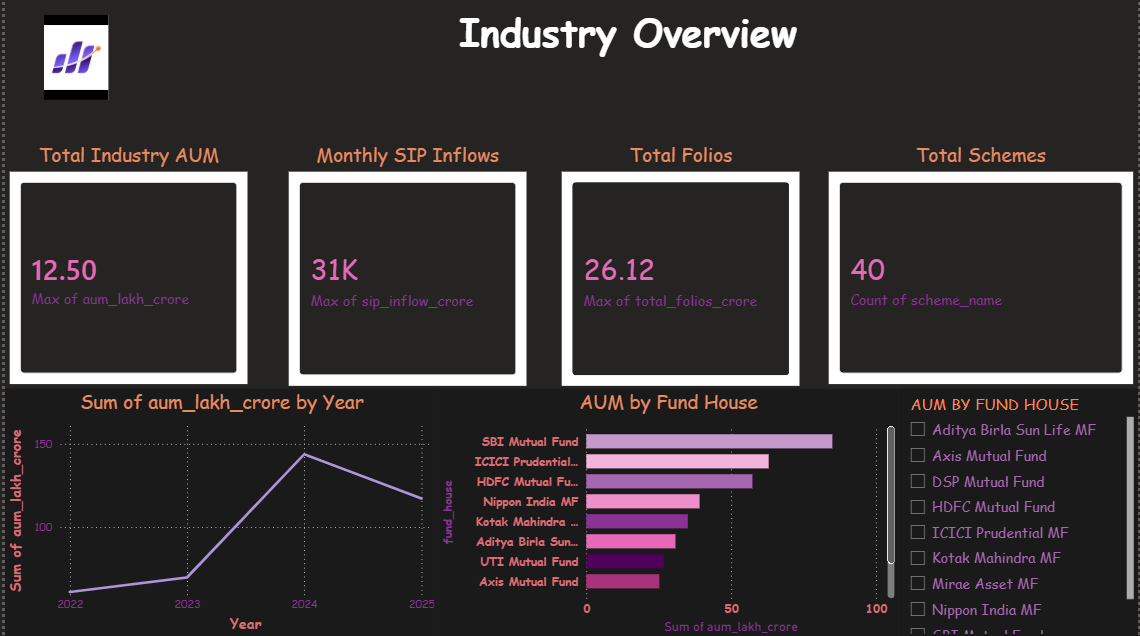

Layout of this report page (visuals, bound fields, positions):
{"tool":"powerbi","page":{"name":"Industry Overview","canvas":[1280,720],"ordinal":0},"visuals":[{"type":"cardVisual","title":"Total Industry AUM","fields":{"Data":["Max(03_aum_by_fund_house_clean.aum_lakh_crore)"]},"box":[0,159,279.9,279.9],"z":0},{"type":"cardVisual","title":"Monthly SIP Inflows","fields":{"Data":["Max(04_monthly_sip_inflows_clean.sip_inflow_crore)"]},"box":[314.7,159,279.9,281.6],"z":1000},{"type":"cardVisual","title":"Total Folios","fields":{"Data":["Max(06_industry_folio_count_clean.total_folios_crore)"]},"box":[624.5,159,279.9,281.6],"z":2000},{"type":"lineChart","fields":{"Category":["03_aum_by_fund_house_clean.date.Variation.Date Hierarchy.Year","03_aum_by_fund_house_clean.date.Variation.Date Hierarchy.Quarter","03_aum_by_fund_house_clean.date.Variation.Date Hierarchy.Month","03_aum_by_fund_house_clean.date.Variation.Date Hierarchy.Day"],"Y":["Sum(03_aum_by_fund_house_clean.aum_lakh_crore)"]},"box":[0,439,490.3,281.6],"z":3000},{"type":"clusteredBarChart","title":"AUM by Fund House","fields":{"Y":["Sum(03_aum_by_fund_house_clean.aum_lakh_crore)"],"Category":["03_aum_by_fund_house_clean.fund_house"]},"box":[490.3,439,520.1,281.6],"z":4000},{"type":"cardVisual","title":"Total Schemes","fields":{"Data":["Count(01_fund_master_clean.scheme_name)"]},"box":[926,159,354.5,279.9],"z":5000},{"type":"textbox","box":[501.1,0,404.5,90.4],"z":6000},{"type":"slicer","fields":{"Values":["03_aum_by_fund_house_clean.fund_house"]},"box":[1010.5,439,270,281.6],"z":7000},{"type":"image","box":[44.7,16.6,72.9,96.1],"z":8000}]}

Visuals, with their boxes in screenshot pixels (x1, y1, x2, y2), scaled from the page's 1280x720 canvas onto the 1140x636 screenshot:
"Total Industry AUM" cardVisual: {"x1": 0, "y1": 140, "x2": 249, "y2": 388}
"Monthly SIP Inflows" cardVisual: {"x1": 280, "y1": 140, "x2": 530, "y2": 389}
"Total Folios" cardVisual: {"x1": 556, "y1": 140, "x2": 805, "y2": 389}
lineChart - 03_aum_by_fund_house_clean.date.Variation.Date Hierarchy.Year x 03_aum_by_fund_house_clean.date.Variation.Date Hierarchy.Quarter: {"x1": 0, "y1": 388, "x2": 437, "y2": 635}
"AUM by Fund House" clusteredBarChart: {"x1": 437, "y1": 388, "x2": 900, "y2": 635}
"Total Schemes" cardVisual: {"x1": 825, "y1": 140, "x2": 1139, "y2": 388}
textbox: {"x1": 446, "y1": 0, "x2": 807, "y2": 80}
slicer - 03_aum_by_fund_house_clean.fund_house: {"x1": 900, "y1": 388, "x2": 1139, "y2": 635}
image: {"x1": 40, "y1": 15, "x2": 105, "y2": 100}
